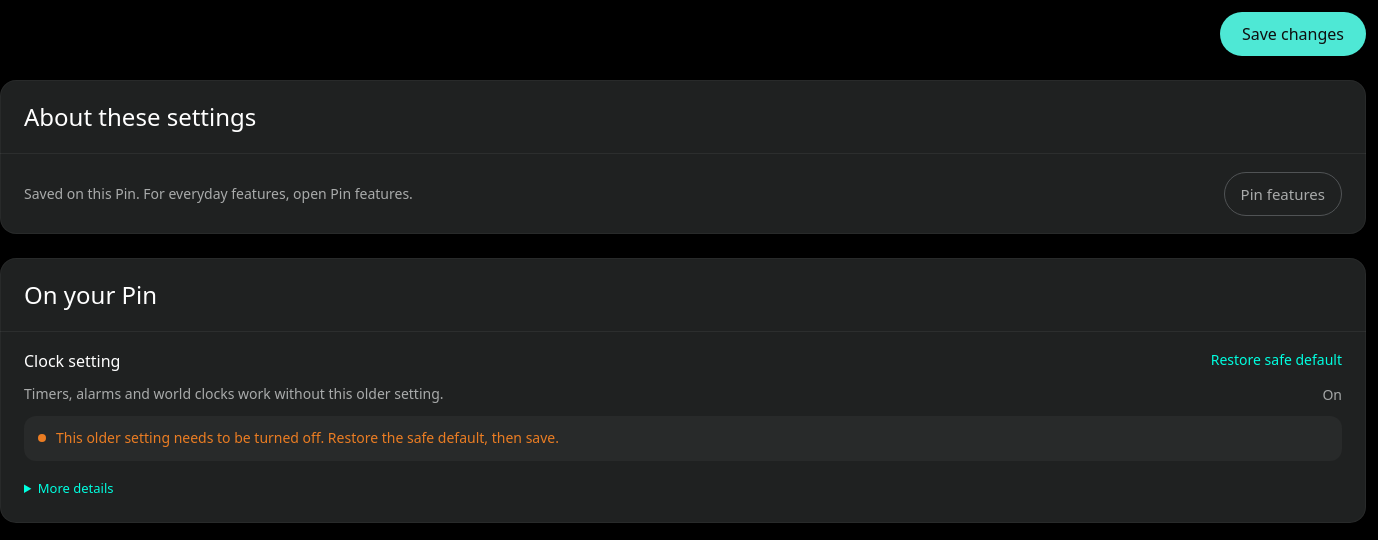
it: Device flags pane › keeps recovery visible when an unused locked setting has an unsafe stored value
The image size is (1378, 540).
Check: the heading "Clock setting" is shown, box [24,350,120,372]
Click the button "Restore safe default".
click(1276, 360)  # box [1211,350,1342,369]
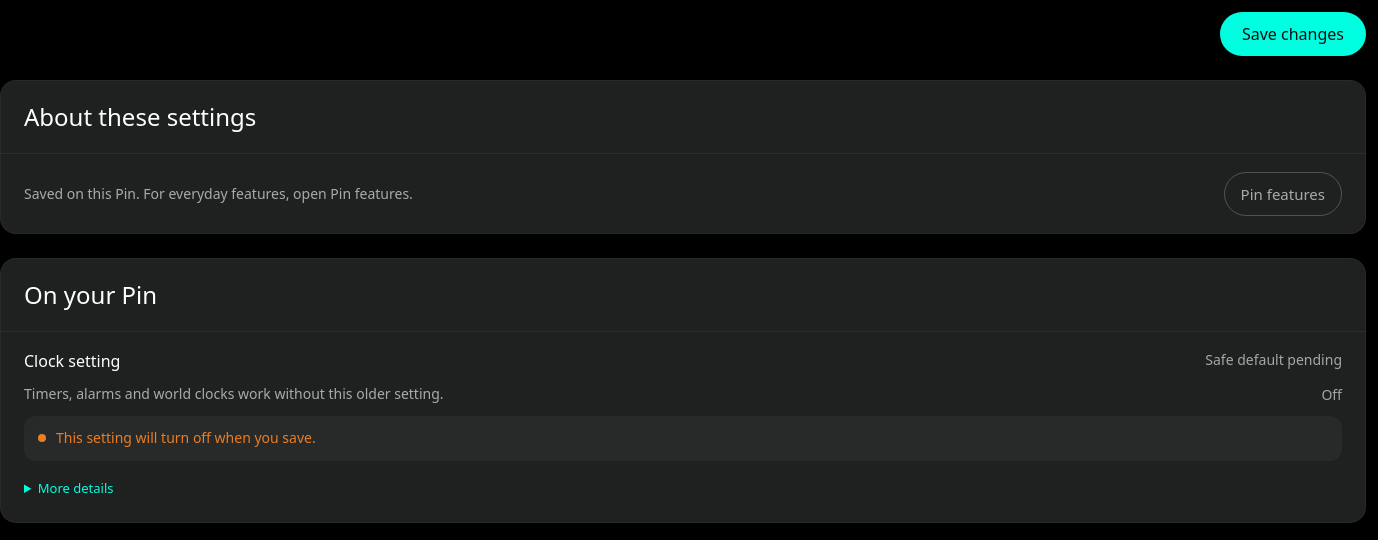
Click the button with test id "pin-save-button".
click(1293, 34)  # box [1220,12,1366,56]
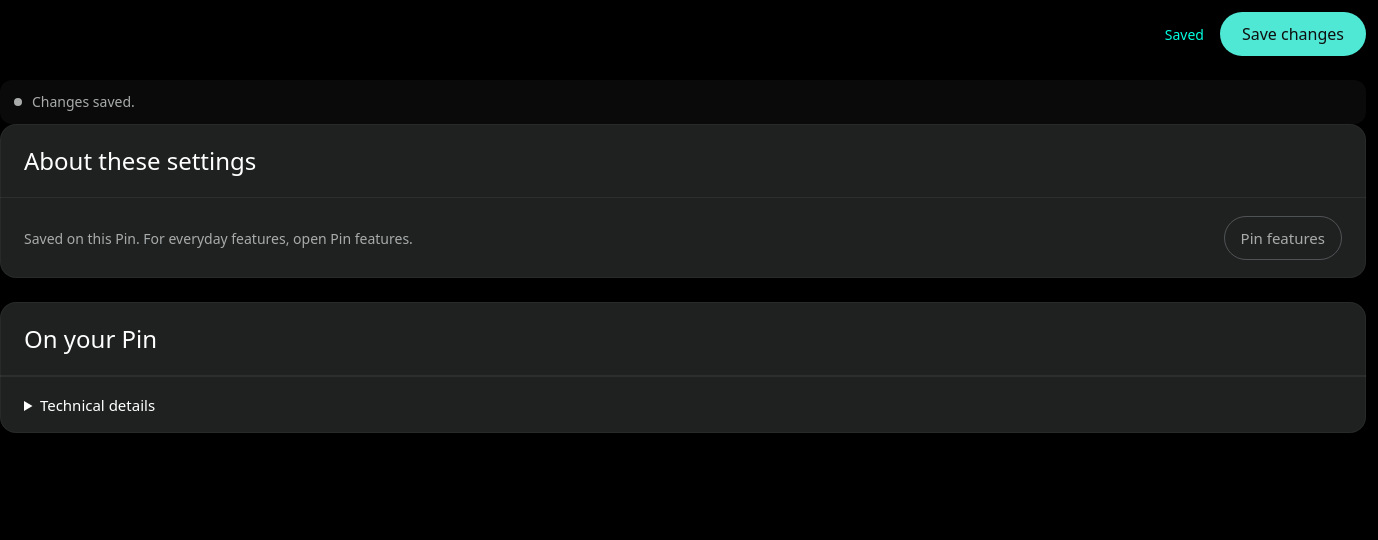
Check: the text "Changes saved." is shown, box [32,92,135,111]
